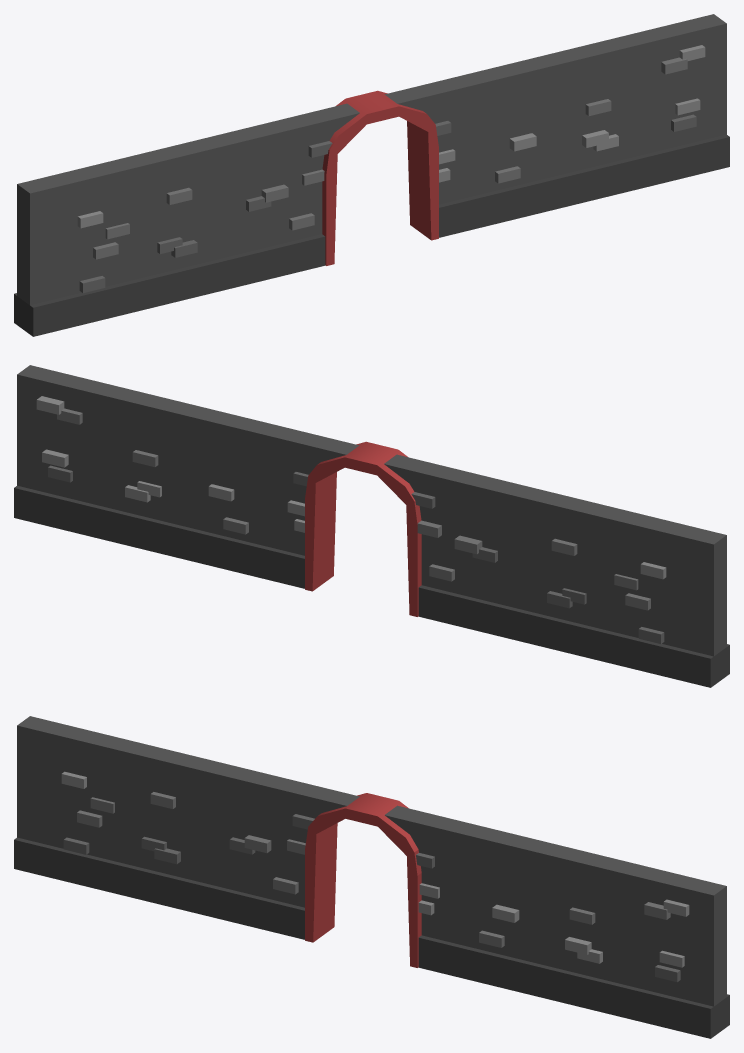
The model's file is DoorWall2.fbx.
The picture shows the model from 3 angles, top to bottom: view 1: azimuth 30°, elevation 25°; view 2: azimuth 150°, elevation 25°; view 3: azimuth 330°, elevation 25°; orthographic projection.
Visible parts, largest first — view 1: DoorWall2; view 2: DoorWall2; view 3: DoorWall2.
Boxes of the visible parts, x1=… form: DoorWall2: x1=14, y1=14, x2=729, y2=336; DoorWall2: x1=14, y1=365, x2=729, y2=687; DoorWall2: x1=14, y1=716, x2=729, y2=1038.
Size of the model in its own units: 31 by 6.05 by 1.75.
